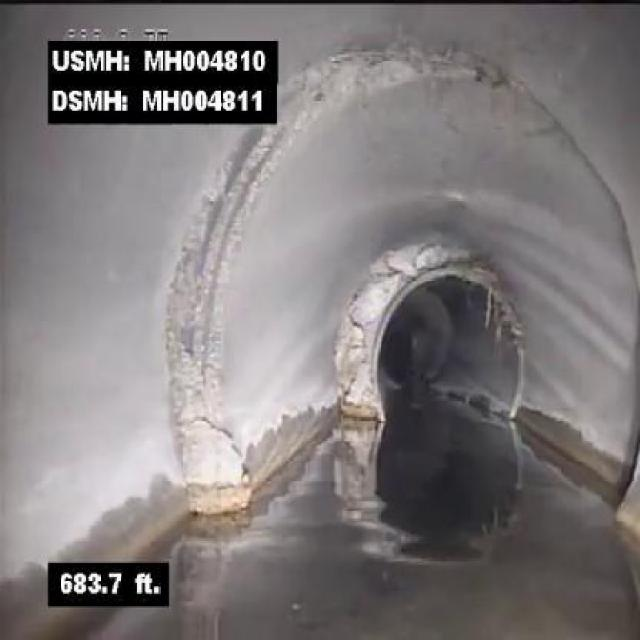Joint offset: (160, 137, 265, 514), (286, 39, 529, 103)
